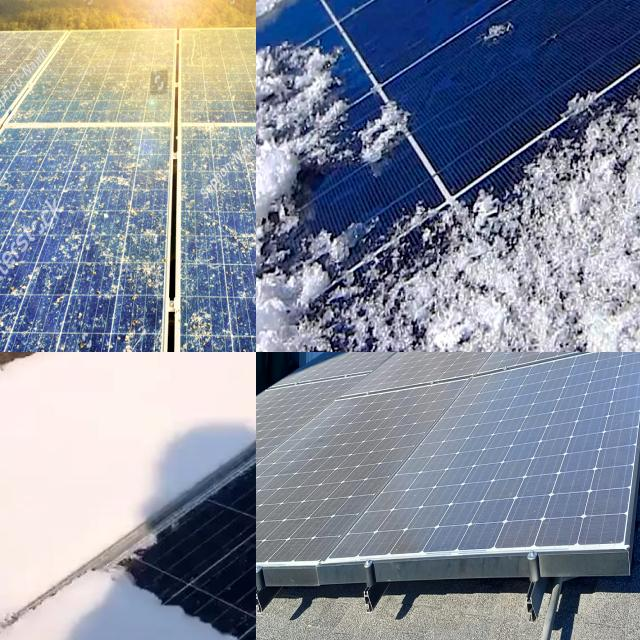bird: (138, 227, 170, 289), (184, 308, 226, 352), (107, 314, 149, 352), (0, 142, 28, 192), (102, 172, 134, 210), (6, 264, 30, 314), (0, 77, 21, 125), (244, 206, 256, 281), (49, 278, 74, 310), (0, 261, 13, 296), (0, 263, 8, 310)
dust: (414, 375, 526, 480), (545, 352, 640, 466), (514, 474, 626, 547), (310, 398, 404, 483), (272, 493, 379, 550), (405, 485, 507, 540), (404, 352, 508, 395), (318, 352, 388, 390), (256, 477, 288, 559), (256, 406, 296, 461), (541, 352, 640, 372)
panel: (379, 114, 582, 352), (45, 352, 256, 542), (256, 13, 324, 352), (465, 0, 620, 49), (287, 0, 456, 43), (256, 0, 315, 39), (182, 352, 256, 373)
